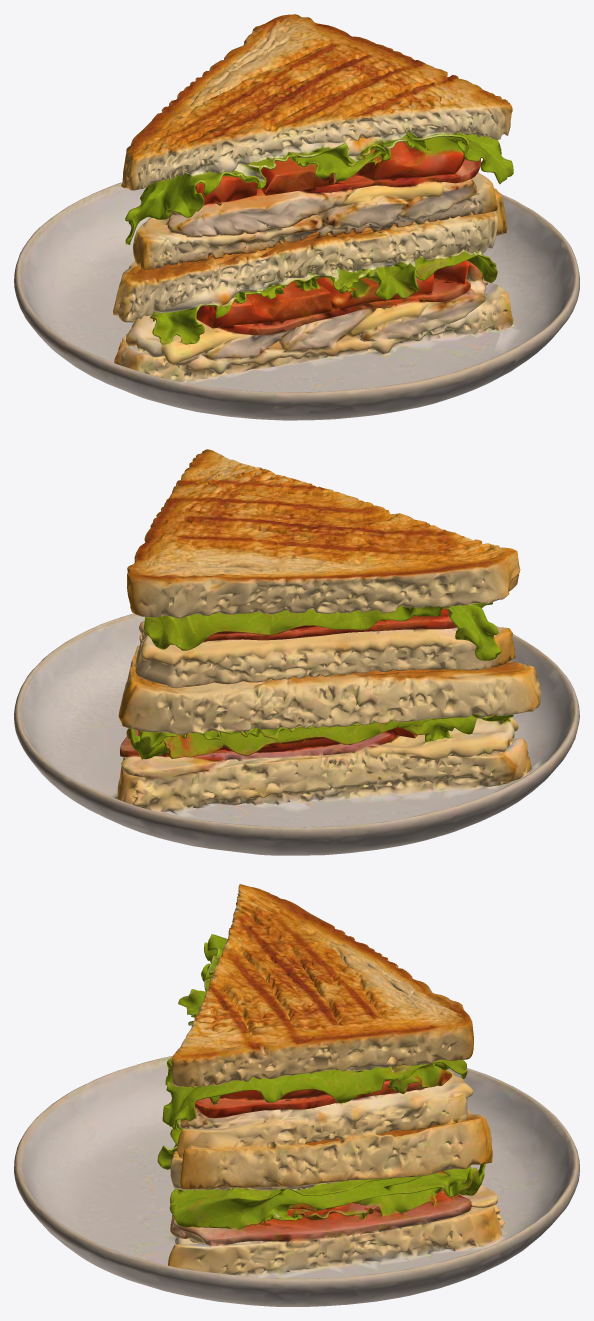
3 renders of one model, top to bottom at view 1: azimuth 30°, elevation 25°; view 2: azimuth 150°, elevation 25°; view 3: azimuth 270°, elevation 25°, orthographic.
Bounding box in the file's own units: 1.9 × 0.9032 × 1.9.
Materials: 1 (1 with a texture image).
